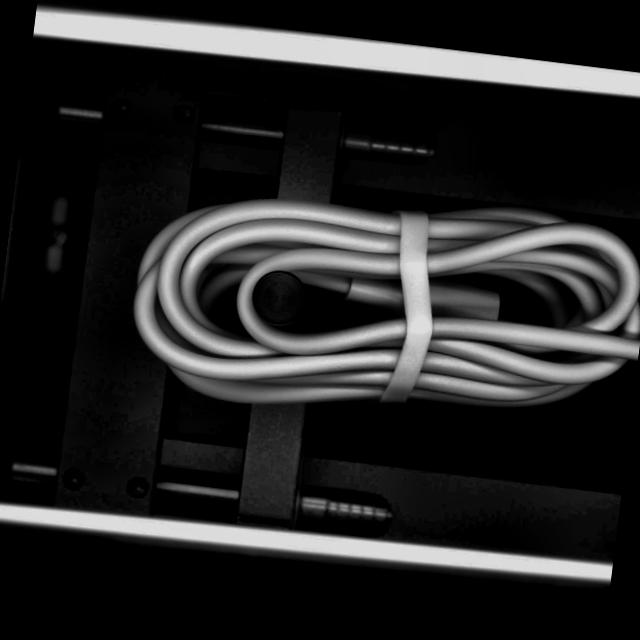Cable: (115, 157, 640, 455)
